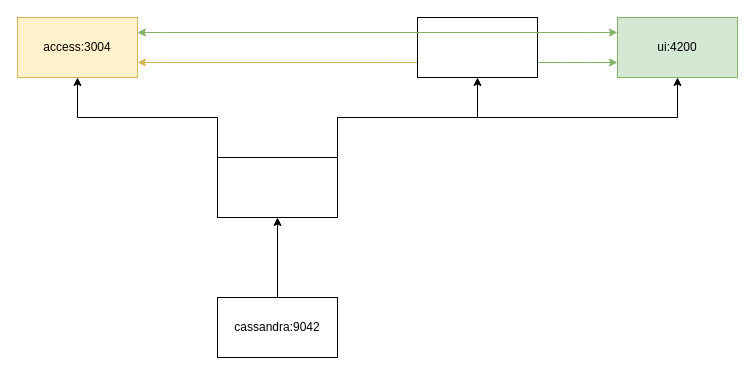
Image size: 755x375. Some labels were removed from this diagram. The shapes that lost their labels are listed below. From the top down, each one's box as (x1, y1, x2, y2) in pixels, then its label:
(416, 16, 538, 78): accounts:3100
(216, 156, 338, 218): auth:8080
